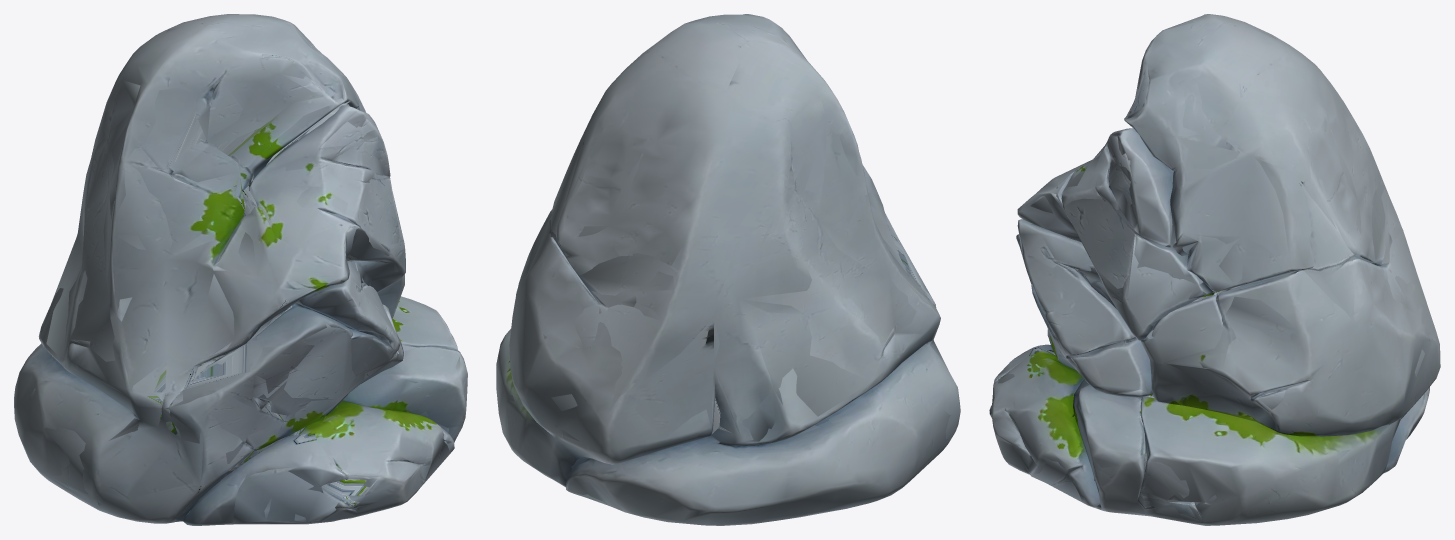
Rendered from rock.glb.
3 views of the same model, side by side, from view 1: azimuth 30°, elevation 25°; view 2: azimuth 150°, elevation 25°; view 3: azimuth 270°, elevation 25° (orthographic). The views are drawn at different scales.
Parts seen in each view (by area): view 1: rock-detail, rock-background; view 2: rock-detail, rock-background; view 3: rock-detail, rock-background.
Boxes of the visible parts, x1,y1,x2,y2 form: rock-detail: [14, 14, 467, 525]; rock-background: [28, 25, 467, 524]; rock-detail: [496, 14, 960, 525]; rock-background: [509, 95, 950, 505]; rock-detail: [989, 14, 1440, 525]; rock-background: [991, 64, 1436, 521].
Size of the model in its own units: 1 by 1 by 1.
Materials: 1 (1 with a texture image).
